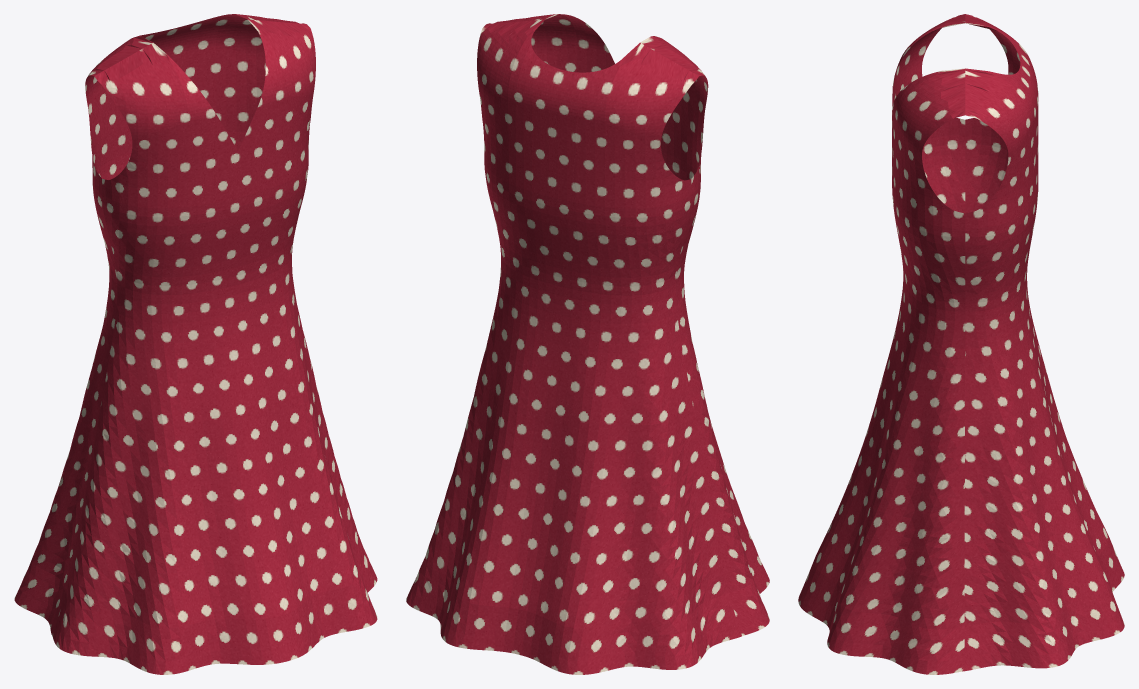
3 views of the same model, side by side, from view 1: azimuth 30°, elevation 25°; view 2: azimuth 150°, elevation 25°; view 3: azimuth 270°, elevation 25° (orthographic). The views are drawn at different scales.
Visible parts, largest first — view 1: geometry_0; view 2: geometry_0; view 3: geometry_0.
Boxes of the visible parts, x1,y1,x2,y2 form: geometry_0: [14, 14, 377, 674]; geometry_0: [406, 14, 769, 674]; geometry_0: [798, 14, 1124, 674].
Bounding box in the file's own units: 0.5302 × 0.9187 × 0.4898.
Materials: 1 (1 with a texture image).
